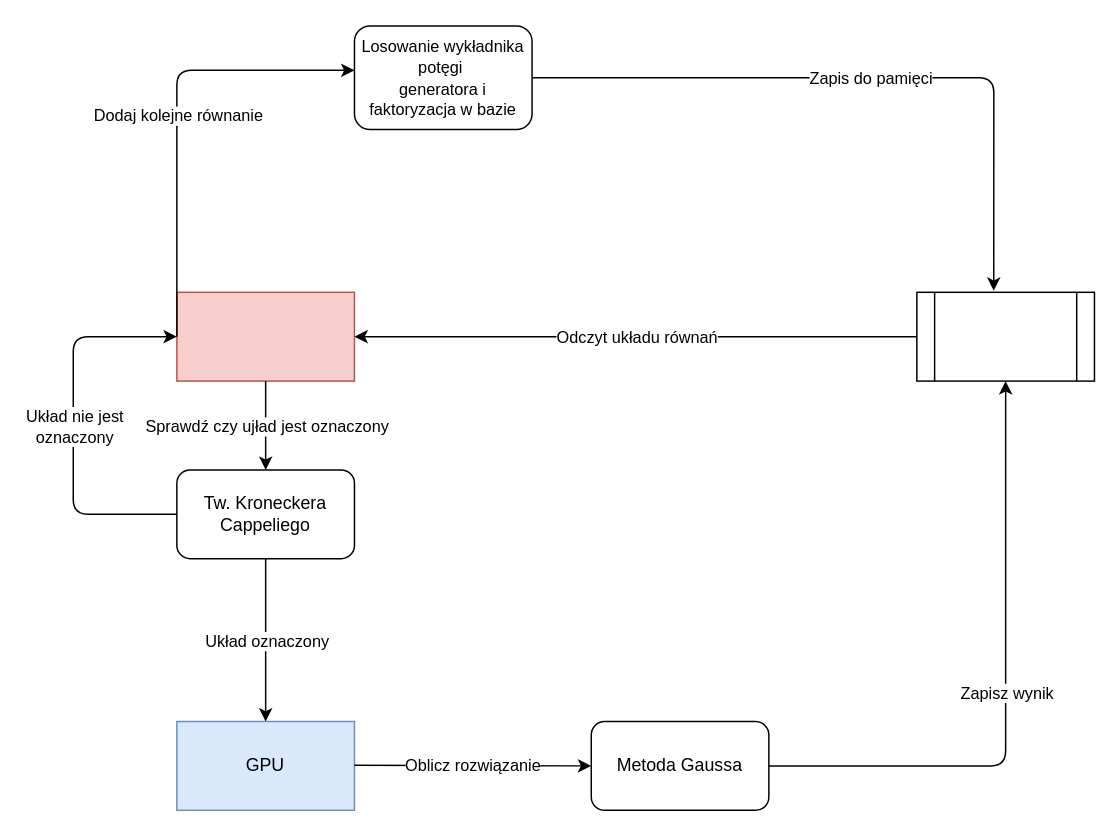
The diagram is 1120 pixels wide and 836 high, and some of its shapes have lost their labels. Here are the shapes that lost their labels. From the top down, the centre of each, then its label:
At pixel 264 336: "CPU".
At pixel 1004 336: "Pamięc globalna".
